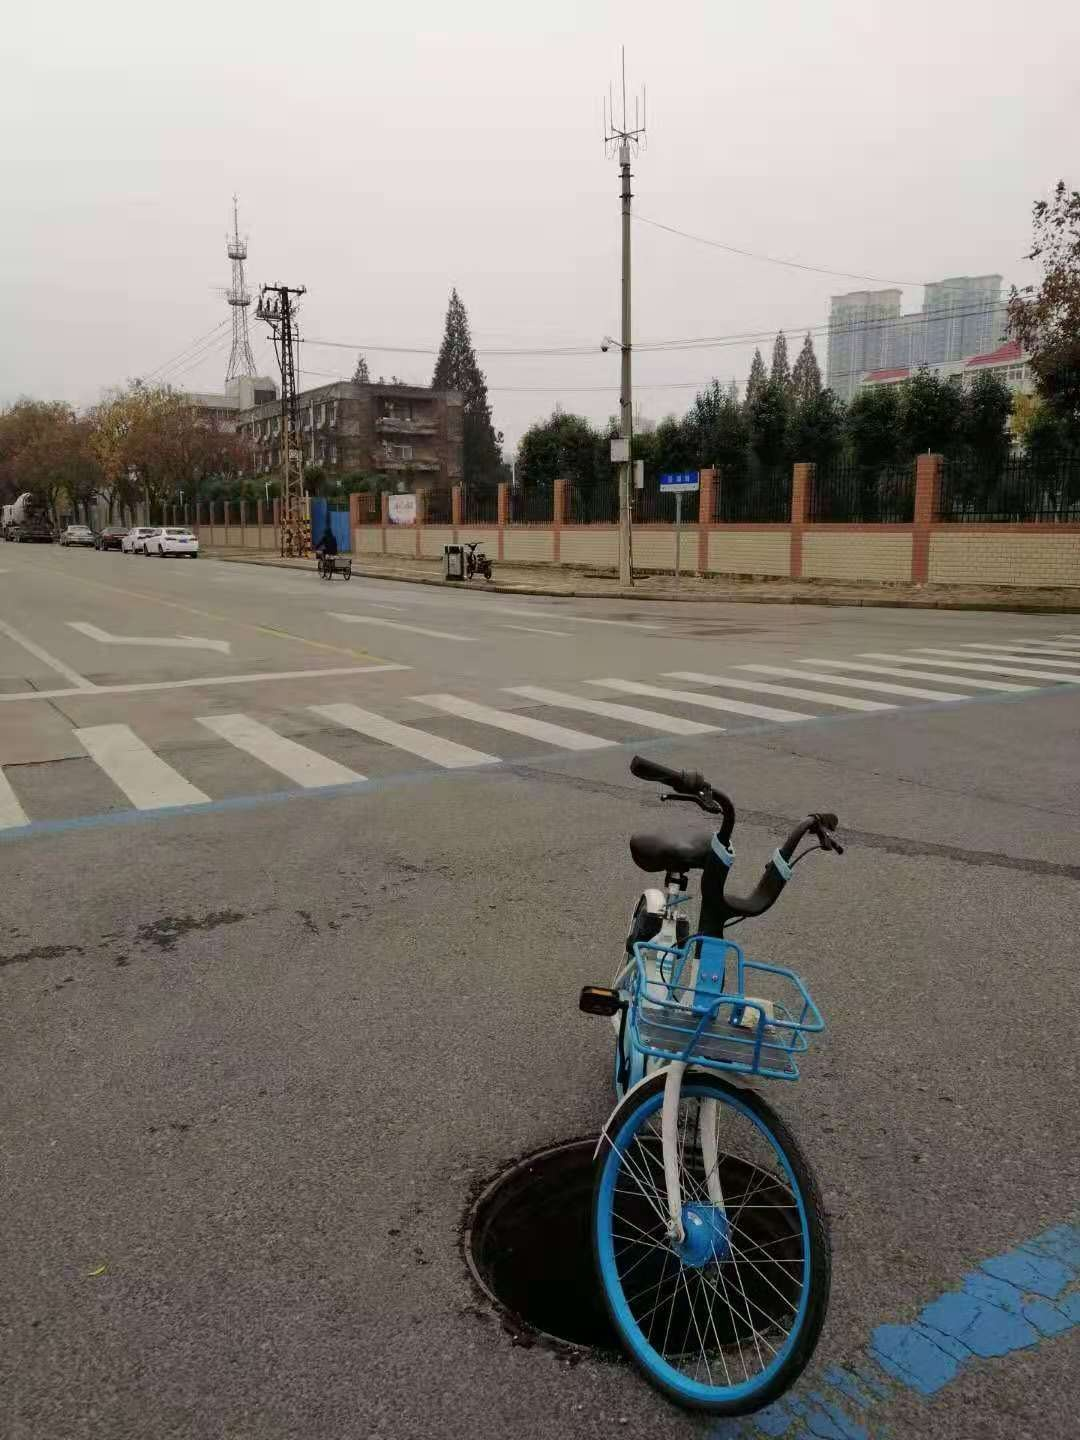lose: (467, 1127, 819, 1375)
